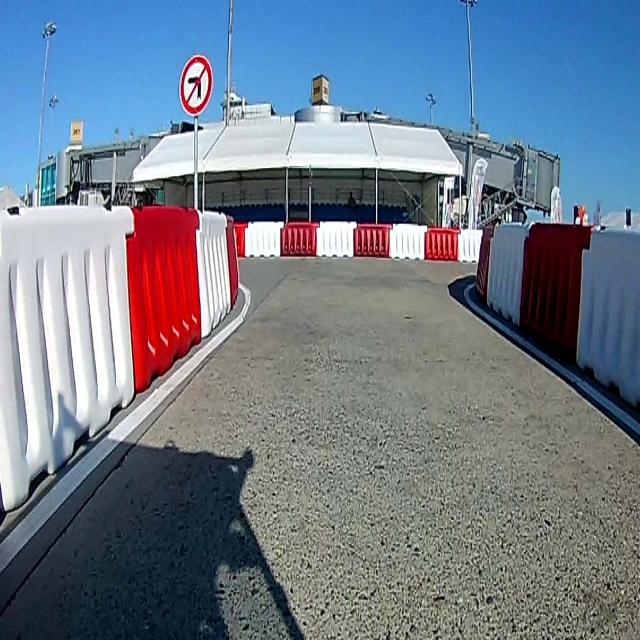soladonulmez: (180, 58, 213, 113)
